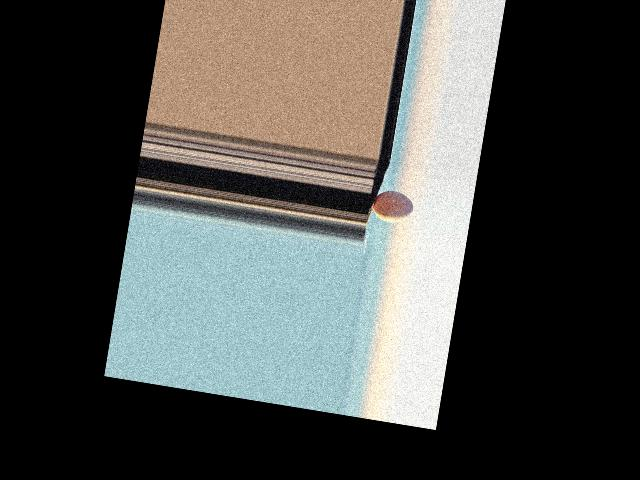egg: (371, 188, 415, 226)
